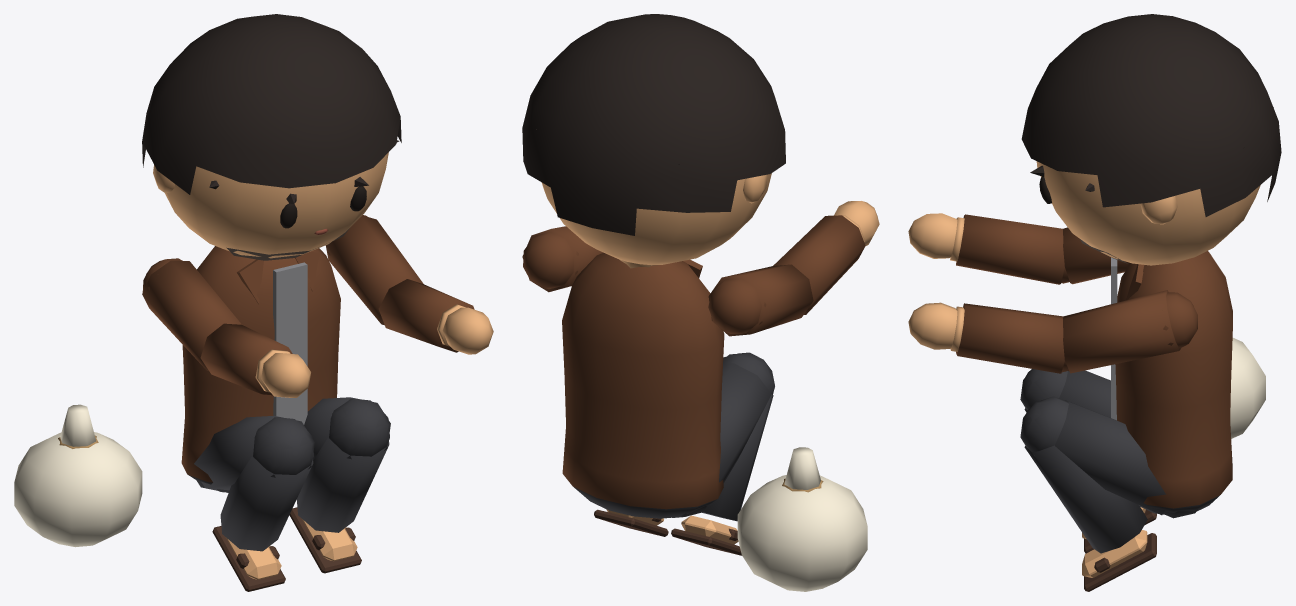
Rendered from era4_homeless.glb.
The picture shows the model from 3 angles, left to right: view 1: azimuth 30°, elevation 25°; view 2: azimuth 150°, elevation 25°; view 3: azimuth 270°, elevation 25°; orthographic projection.
Parts seen in each view (by area): view 1: head, body, prop_bindle, shin_R, shin_L, forearm_L, forearm_R, arm_R, leg_R, arm_L, leg_L; view 2: head, body, prop_bindle, arm_R, forearm_R, shin_R, leg_R, arm_L, shin_L; view 3: head, body, shin_L, forearm_L, arm_L, forearm_R, leg_L, prop_bindle, leg_R, arm_R, shin_R.
Part boxes in pixels (x1,y1,x2,y2): head: [142, 14, 401, 260]; body: [181, 246, 340, 492]; prop_bindle: [14, 404, 142, 547]; shin_R: [212, 417, 313, 591]; shin_L: [289, 399, 389, 573]; forearm_L: [378, 279, 493, 354]; forearm_R: [200, 323, 310, 397]; arm_R: [142, 258, 241, 370]; leg_R: [194, 416, 314, 492]; arm_L: [325, 215, 423, 325]; leg_L: [304, 397, 390, 460]; head: [522, 14, 785, 265]; body: [562, 252, 724, 518]; prop_bindle: [737, 447, 867, 591]; arm_R: [708, 264, 813, 336]; forearm_R: [773, 201, 879, 314]; shin_R: [671, 353, 773, 555]; leg_R: [672, 352, 774, 517]; arm_L: [522, 226, 603, 292]; shin_L: [594, 509, 668, 536]; head: [1021, 14, 1281, 265]; body: [1111, 251, 1232, 514]; shin_L: [1024, 396, 1156, 591]; forearm_L: [908, 302, 1064, 373]; arm_L: [1062, 290, 1197, 373]; forearm_R: [908, 213, 1069, 284]; leg_L: [1020, 399, 1197, 518]; prop_bindle: [1230, 338, 1265, 438]; leg_R: [1020, 369, 1110, 417]; arm_R: [1061, 227, 1128, 284]; shin_R: [1024, 370, 1156, 553].
Size of the model in its own units: 0.7666 by 1.13 by 0.7127.
